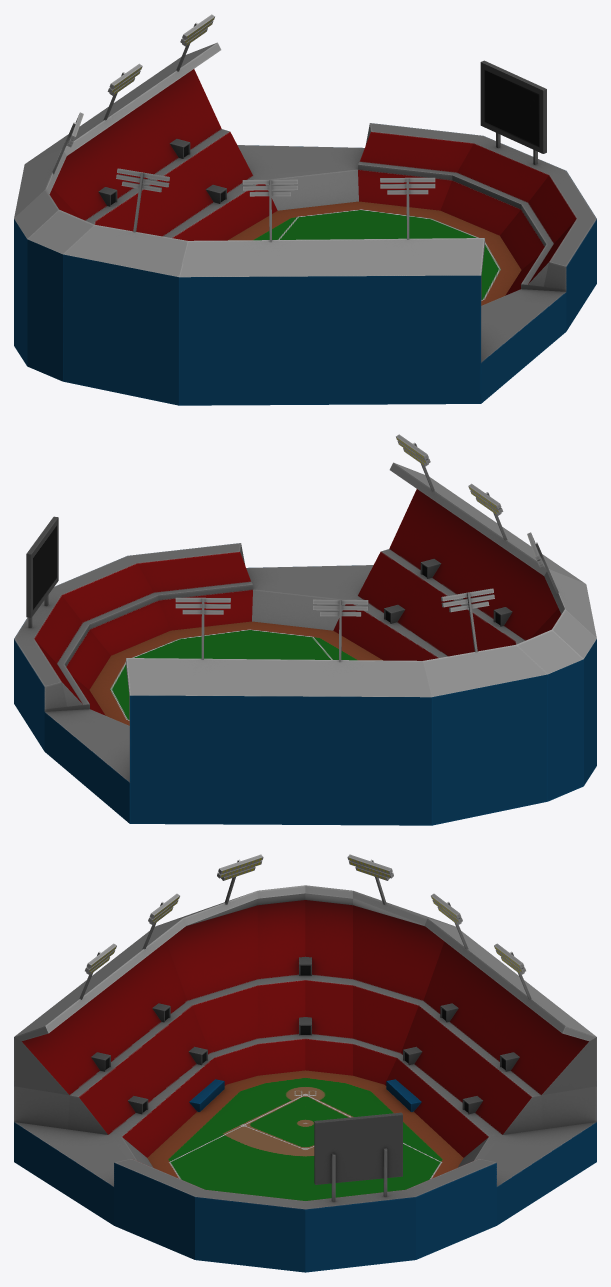
Rendered from Ballpark.gltf.
The picture shows the model from 3 angles, top to bottom: view 1: azimuth 30°, elevation 25°; view 2: azimuth 150°, elevation 25°; view 3: azimuth 270°, elevation 25°; orthographic projection. The views are drawn at different scales.
Visible parts, largest first — view 1: node-0; view 2: node-0; view 3: node-0.
Boxes of the visible parts, x1,y1,x2,y2 form: node-0: (14, 14, 596, 405); node-0: (14, 434, 596, 825); node-0: (14, 854, 596, 1272).
Size of the model in its own units: 34.23 by 12.19 by 32.89.
1 material, 1 textured.
